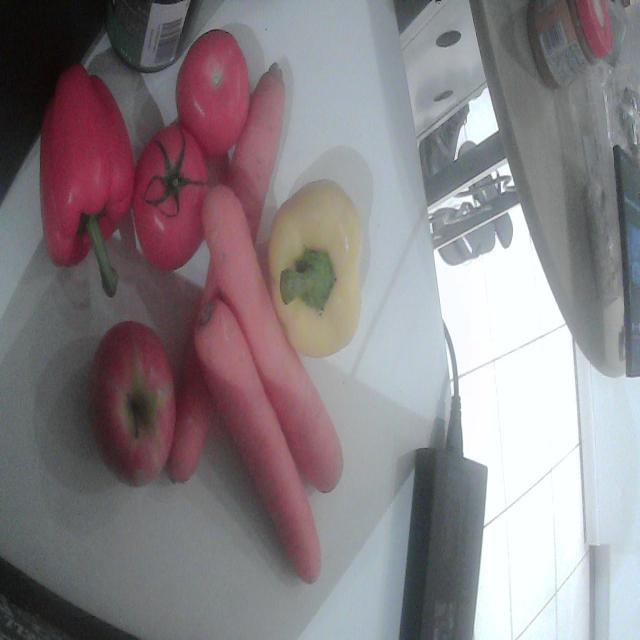Apple: (91, 323, 176, 485)
Bell Pepper: (40, 66, 134, 295), (269, 180, 363, 357)
Carrot: (203, 188, 343, 492), (192, 300, 320, 581), (227, 68, 284, 241)
Tomato: (132, 124, 210, 269), (176, 30, 250, 157)
